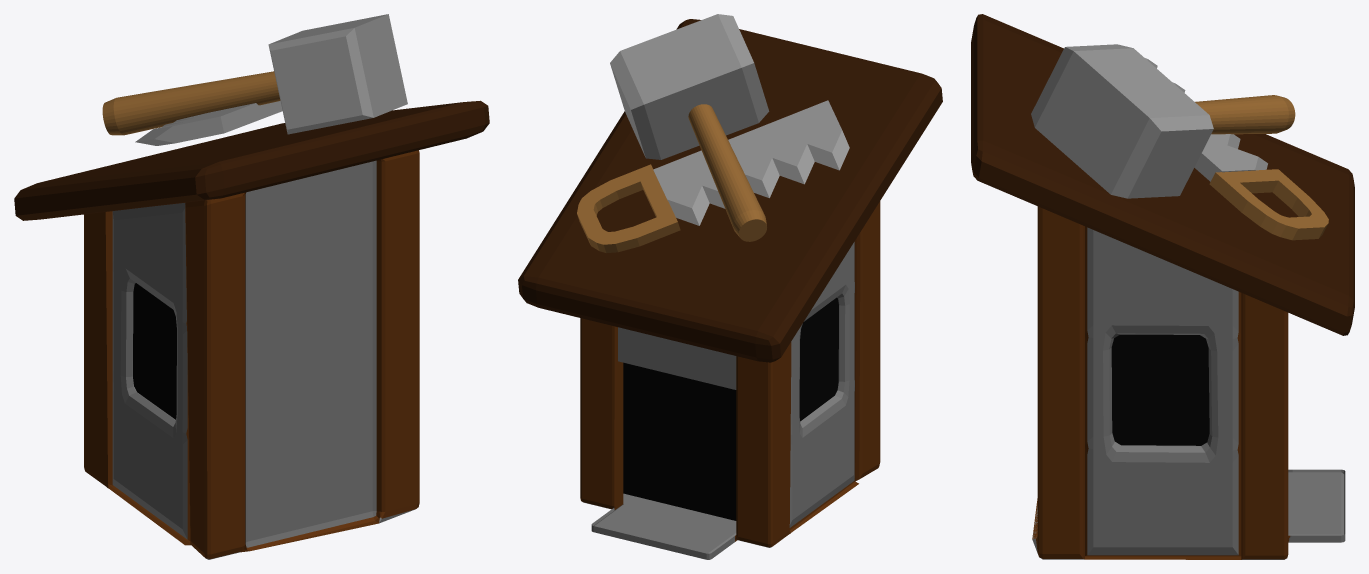
The model's file is 3dmodel6489c5cf9218econstructor.glb.
3 renders of one model, left to right at view 1: azimuth 30°, elevation 25°; view 2: azimuth 150°, elevation 25°; view 3: azimuth 270°, elevation 25°, orthographic. The views are drawn at different scales.
Parts seen in each view (by area): view 1: Cube, Plane, Cube.001, Cube.002, Plane.002; view 2: Plane, Cube, Cube.001, Cube.002, Plane.002; view 3: Cube, Plane, Cube.001, Cube.002, Plane.002.
Part boxes in pixels (box(x1,y1,x2,y2)): Cube: box(84, 150, 419, 559); Plane: box(14, 100, 489, 220); Cube.001: box(102, 14, 407, 135); Cube.002: box(133, 283, 176, 419); Plane.002: box(135, 101, 282, 145); Plane: box(518, 19, 942, 362); Cube: box(580, 201, 880, 559); Cube.001: box(610, 14, 769, 241); Cube.002: box(623, 297, 838, 520); Plane.002: box(577, 100, 849, 253); Cube: box(1032, 206, 1345, 559); Plane: box(971, 14, 1354, 335); Cube.001: box(1031, 44, 1295, 198); Cube.002: box(1111, 334, 1209, 445); Plane.002: box(1145, 58, 1328, 240).
Size of the model in its own units: 6.85 by 10.78 by 7.7.
